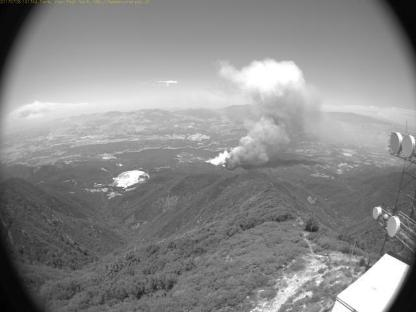smoke: (206, 58, 322, 168)
